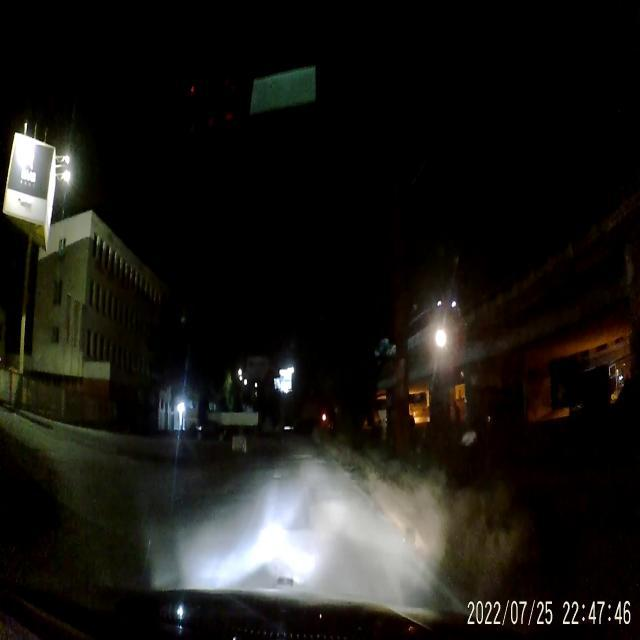Pothole: (268, 469, 285, 482)
